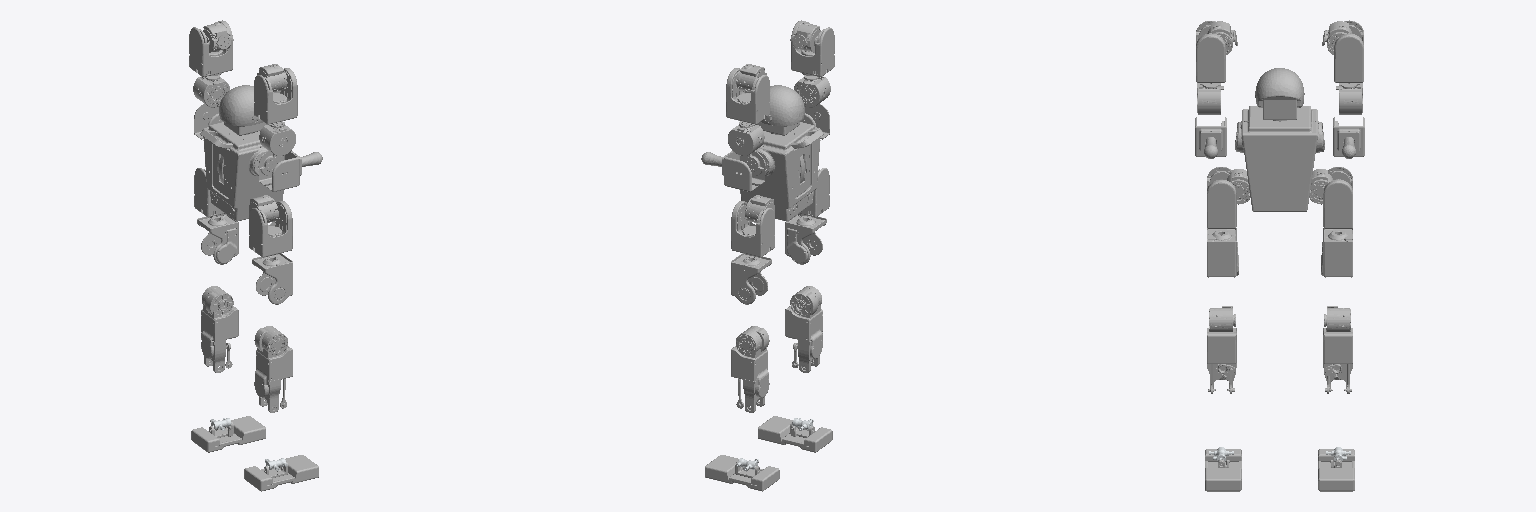
--- Facts derived from the render (not from the file) ---
Views: 3 orthographic renders of the robot side by side, from view 1: azimuth 30°, elevation 25°; view 2: azimuth 150°, elevation 25°; view 3: azimuth 270°, elevation 25°.
Robot: lus2 — 29 links, 28 joints (27 revolute, 1 fixed); root link pelvis; default pose: all joints at 0.
Links seen in each view (by area): view 1: torso_link, right_knee_link, left_knee_link, right_hip_roll_link, right_shoulder_roll_link, right_elbow_link, left_ankle_roll_link, right_hip_yaw_link, right_ankle_roll_link, left_hip_yaw_link, left_shoulder_roll_link, right_shoulder_yaw_link (+4 smaller); view 2: torso_link, left_knee_link, right_knee_link, left_hip_roll_link, left_shoulder_roll_link, left_elbow_link, right_ankle_roll_link, left_hip_yaw_link, left_ankle_roll_link, right_hip_yaw_link, right_shoulder_roll_link, left_shoulder_yaw_link (+4 smaller); view 3: torso_link, left_knee_link, right_knee_link, left_hip_roll_link, right_hip_roll_link, left_shoulder_roll_link, right_shoulder_roll_link, right_hip_yaw_link, left_hip_yaw_link, right_ankle_roll_link, left_ankle_roll_link, right_elbow_link (+3 smaller).
Link boxes in pixels (bbox=[...]): torso_link: bbox=[200, 85, 283, 221]; right_knee_link: bbox=[254, 326, 292, 412]; left_knee_link: bbox=[201, 286, 238, 372]; right_hip_roll_link: bbox=[249, 201, 292, 257]; right_shoulder_roll_link: bbox=[254, 68, 297, 124]; right_elbow_link: bbox=[259, 151, 322, 191]; left_ankle_roll_link: bbox=[191, 416, 265, 452]; right_hip_yaw_link: bbox=[252, 253, 292, 304]; right_ankle_roll_link: bbox=[244, 455, 318, 491]; left_hip_yaw_link: bbox=[197, 215, 238, 264]; left_shoulder_roll_link: bbox=[189, 20, 232, 76]; right_shoulder_yaw_link: bbox=[259, 121, 295, 155]; torso_link: bbox=[740, 85, 823, 220]; left_knee_link: bbox=[731, 326, 769, 412]; right_knee_link: bbox=[785, 286, 822, 372]; left_hip_roll_link: bbox=[731, 201, 774, 257]; left_shoulder_roll_link: bbox=[726, 68, 769, 124]; left_elbow_link: bbox=[701, 151, 764, 191]; right_ankle_roll_link: bbox=[758, 416, 832, 452]; left_hip_yaw_link: bbox=[731, 253, 771, 304]; left_ankle_roll_link: bbox=[705, 455, 779, 491]; right_hip_yaw_link: bbox=[785, 214, 826, 264]; right_shoulder_roll_link: bbox=[791, 20, 834, 76]; left_shoulder_yaw_link: bbox=[728, 121, 764, 155]; torso_link: bbox=[1235, 68, 1324, 211]; left_knee_link: bbox=[1323, 306, 1352, 393]; right_knee_link: bbox=[1207, 306, 1236, 393]; left_hip_roll_link: bbox=[1323, 167, 1352, 228]; right_hip_roll_link: bbox=[1207, 167, 1236, 228]; left_shoulder_roll_link: bbox=[1334, 20, 1363, 82]; right_shoulder_roll_link: bbox=[1196, 21, 1225, 82]; right_hip_yaw_link: bbox=[1207, 228, 1238, 277]; left_hip_yaw_link: bbox=[1321, 228, 1352, 277]; right_ankle_roll_link: bbox=[1205, 449, 1241, 491]; left_ankle_roll_link: bbox=[1318, 449, 1354, 491]; right_elbow_link: bbox=[1195, 117, 1226, 158].
Size in the robot's own frame: 0.2789 by 0.4659 by 1.35 metres.
21 mesh visuals loaded from 31 distinct referenced files (21 binary STL); not drawn: 10 (reference not matched to a file when rendering).

robot.urdf — lus2:
<?xml version="1.0" encoding="utf-8"?>
<!-- This URDF was automatically created by SolidWorks to URDF Exporter! Originally created by Stephen Brawner ([email redacted]) 
     Commit Version: 1.6.0-4-g7f85cfe  Build Version: 1.6.7995.38578
     For more information, please see http://wiki.ros.org/sw_urdf_exporter -->
<robot name="lus2">
  <mujoco>
        <compiler meshdir="../meshes" discardvisual="false" />
  </mujoco>
  
  <!-- <link name="base">
    <inertial>
      <origin xyz="0 0 0" rpy="0 0 0" />
      <mass value="0.0001" />
      <inertia
        ixx="0.0000000"
        ixy="0.0000000"
        ixz="0.0000000"
        iyy="0.0000000"
        iyz="0.0000000"
        izz="0.0000000" />
    </inertial>
    <visual>
      <origin xyz="0 0 0" rpy="0 0 0" />
      <geometry>
        <box size = "0.001 0.001 0.001"/>
      </geometry>
      <material name="a">
        <color rgba="0.752941176470588 0.752941176470588 0.752941176470588 1" />
      </material>
    </visual>
    <collision>
      <origin xyz="0 0 0" rpy="0 0 0" />
      <geometry>
        <box size = "0.001 0.001 0.001"/>
      </geometry>
    </collision>
  </link>

  <joint name="floating_base_joint" type="fixed">
    <origin xyz="0 0 0" rpy="0 0 0" />
    <parent link="base" />
    <child link="pelvis" />
  </joint> -->

  <link name="pelvis">
    <inertial>
      <origin xyz="-3.1659855E-03  0.0000000 -1.0930236E-01" rpy="0 0 0" />
      <mass value="6.7964049" />
      <inertia
        ixx="3.9641975E-02"
        ixy="0.0000000"
        ixz="1.2568204E-03"
        iyy="3.5762219E-02"
        iyz="0.0000000"
        izz="2.2011165E-02" />
    </inertial>
    <visual>
      <origin xyz="0 0 0.1" rpy="0 0 0" />
      <geometry>
        <mesh filename="../meshes/pelvis.STL" />
      </geometry>
      <material name="a">
        <color rgba="0.752941176470588 0.752941176470588 0.752941176470588 1" />
      </material>
    </visual>
    <!-- <collision>
      <origin xyz="0 0 0" rpy="0 0 0" />
      <geometry>
        <mesh filename="../meshes/pelvis.STL" />
      </geometry>
    </collision> -->
    <collision>
      <origin xyz="0 0 0.0" rpy="0 0 0" />
      <geometry>
        <cylinder radius="0.0572" length="0.1883" />
      </geometry>
    </collision>
  </link>

  <link name="left_hip_pitch_link">
    <inertial>
      <origin xyz="-2.0168256E-02  8.2216101E-02  0.0000000" rpy="0 0 0" />
      <mass value="2.4277335" />
      <inertia
        ixx="6.1432167E-03"
        ixy="4.8775061E-04"
        ixz="0.0000000"
        iyy="3.6201357E-03"
        iyz="0.0000000"
        izz="5.1618570E-03" />
    </inertial>
    <visual>
      <origin xyz="0 0 0.0" rpy="0 0 0" />
      <geometry>
        <mesh filename="../meshes/left_hip_pitch_link.STL" />
      </geometry>
      <material name="a">
        <color rgba="0.752941176470588 0.752941176470588 0.752941176470588 1" />
      </material>
    </visual>
    <!-- <collision>
      <origin xyz="0 0 0" rpy="0 0 0" />
      <geometry>
        <mesh filename="../meshes/left_hip_pitch_link.STL" />
      </geometry>
    </collision> -->
    <collision>
      <origin xyz="0 0.01 0" rpy="1.57 0 0" />
      <geometry>
        <cylinder radius="0.045" length="0.0234" />
      </geometry>
    </collision>
  </link>

  <joint name="left_hip_pitch_joint" type="revolute">
    <origin xyz="0 0.068 -0.056" rpy="0 0 0" />
    <parent link="pelvis" />
    <child link="left_hip_pitch_link" />
    <axis xyz="0 1 0" />
    <limit lower="-1.5" upper="1.5" effort="300" velocity="11" />
  </joint>

  <link name="left_hip_roll_link">
    <inertial>
      <origin xyz="-2.3116200E-03 -3.6364046E-04 -8.1422005E-02" rpy="0 0 0" />
      <mass value="3.1551632" />
      <inertia
        ixx="1.2134241E-02"
        ixy="-4.1927788E-05"
        ixz="-1.9137034E-03"
        iyy="1.1479866E-02"
        iyz="-1.2177975E-04"
        izz="7.1752202E-03" />
    </inertial>
    <visual>
      <origin xyz="0 0 0" rpy="0 0 0" />
      <geometry>
        <mesh filename="../meshes/left_hip_roll_link.STL" />
      </geometry>
      <material name="a">
        <color rgba="0.752941176470588 0.752941176470588 0.752941176470588 1" />
      </material>
    </visual>
    <!-- <collision>
      <origin xyz="0 0 0" rpy="0 0 0" />
      <geometry>
        <mesh filename="../meshes/left_hip_roll_link.STL" />
      </geometry>
    </collision> -->
    <collision>
      <origin xyz="-0.01 0 0" rpy="0 1.57 0" />
      <geometry>
        <cylinder radius="0.065" length="0.13" />
      </geometry>
    </collision>
  </link>

  <joint name="left_hip_roll_joint" type="revolute">
    <origin xyz="0 0.092 0" rpy="0 0 0" />
    <parent link="left_hip_pitch_link" />
    <child link="left_hip_roll_link" />
    <axis xyz="1 0 0" />
    <limit lower="-0.25" upper="2.8" effort="300" velocity="11" />
  </joint>

  <link name="left_hip_yaw_link">
    <inertial>
      <origin xyz="6.4280485E-03 -3.5846370E-03 -1.8449587E-01" rpy="0 0 0" />
      <mass value="3.3522325" />
      <inertia
        ixx="3.8105084E-02"
        ixy="-7.7153373E-05"
        ixz="-7.3176284E-04"
        iyy="3.9597910E-02"
        iyz="-9.0739735E-04"
        izz="7.1960830E-03" />
    </inertial>
    <visual>
      <origin xyz="0 0 0" rpy="0 0 0" />
      <geometry>
        <mesh filename="../meshes/left_hip_yaw_link.STL" />
      </geometry>
      <material name="a">
        <color rgba="0.752941176470588 0.752941176470588 0.752941176470588 1" />
      </material>
    </visual>
    <!-- <collision>
      <origin xyz="0 0 0" rpy="0 0 0" />
      <geometry>
        <mesh filename="../meshes/left_hip_yaw_link.STL" />
      </geometry>
    </collision> -->
    <collision>
      <origin xyz="0 0 0" rpy="0 0 0" />
      <geometry>
        <cylinder radius="0.0708" length="0.142" />
      </geometry>
    </collision>
  </link>

  <joint name="left_hip_yaw_joint" type="revolute">
    <origin xyz="0 0 -0.1395" rpy="0 0 0" />
    <parent link="left_hip_roll_link" />
    <child link="left_hip_yaw_link" />
    <axis xyz="0 0 1" />
    <limit lower="-1.2" upper="2.6" effort="300" velocity="11" />
  </joint>

  <link name="left_knee_link">
    <inertial>
      <origin xyz="9.7804057e-03 -1.2159820e-03 -1.1000733e-01" rpy="0 0 0" />
      <mass value="5.3828222" />
      <inertia
        ixx="7.1014736e-02"
        ixy="-6.3321397e-05"
        ixz="9.4868042e-04"
        iyy="7.2059618e-02"
        iyz="1.0601703e-03"
        izz="8.1731788e-03" />
    </inertial>
    <visual>
      <origin xyz="0 0 0" rpy="0 0 0" />
      <geometry>
        <mesh filename="../meshes/left_knee_link.STL" />
      </geometry>
      <material name="a">
        <color rgba="0.752941176470588 0.752941176470588 0.752941176470588 1" />
      </material>
    </visual>
    <!-- <collision>
      <origin xyz="0 0 0" rpy="0 0 0" />
      <geometry>
        <mesh filename="../meshes/left_knee_link.STL" />
      </geometry>
    </collision> -->
    <collision>
      <origin xyz="0 0 -0.13" rpy="0 0 0" />
      <geometry>
        <box size = "0.109 0.095 0.278"/>
      </geometry>
    </collision>
  </link>

  <joint name="left_knee_joint" type="revolute">
    <origin xyz="0 0 -0.26" rpy="0 0 0" />
    <parent link="left_hip_yaw_link" />
    <child link="left_knee_link" />
    <axis xyz="0 1 0" />
    <limit lower="0.0" upper="2.27" effort="300" velocity="11" />
  </joint>

  <link name="left_ankle_pitch_link">
    <inertial>
      <origin xyz="-3.1002626e-04  1.1061714e-05 -4.2515953e-03" rpy="0 0 0" />
      <mass value="1.6375855e-01" />
      <inertia
        ixx="5.5690573e-05"
        ixy="-2.3322493e-10"
        ixz="-3.1117387e-07"
        iyy="2.3118959e-05"
        iyz="4.0748259e-10"
        izz="5.5144716e-05" />
    </inertial>
    <visual>
      <origin xyz="0 0 0" rpy="0 0 0" />
      <geometry>
        <mesh filename="../meshes/left_ankle_pitch_link.STL" />
      </geometry>
      <material name="a">
        <color rgba="0.898039215686275 0.917647058823529 0.929411764705882 1" />
      </material>
    </visual>
    <!-- <collision>
      <origin xyz="0 0 0" rpy="0 0 0" />
      <geometry>
        <mesh filename="../meshes/left_ankle_pitch_link.STL" />
      </geometry>
    </collision> -->
    <collision>
      <origin xyz="0 0 0" rpy="1.57 0 0" />
      <geometry>
        <cylinder radius="0.009" length="0.032" />
      </geometry>
    </collision>
  </link>

  <joint name="left_ankle_pitch_joint" type="revolute">
    <origin xyz="0 0 -0.4" rpy="0 0 0" />
    <parent link="left_knee_link" />
    <child link="left_ankle_pitch_link" />
    <axis xyz="0 1 0" />
    <limit lower="-1.0" upper="0.43" effort="100" velocity="14" />
  </joint>

  <link name="left_ankle_roll_link">
    <inertial>
      <origin xyz="1.7804206e-02  0.0000000e+00 -2.2944985e-02" rpy="0 0 0" />
      <mass value="3.2840177e-01" />
      <inertia
        ixx="2.3276192e-04"
        ixy="0.0000000"
        ixz="9.9000753e-05"
        iyy="1.3849144e-03"
        iyz="0.0000000"
        izz="1.4703900e-03" />
    </inertial>
    <visual>
      <origin xyz="0 0 0" rpy="0 0 0" />
      <geometry>
        <mesh filename="../meshes/left_ankle_roll_link.STL" />
      </geometry>
      <material name="a">
        <color rgba="0.752941176470588 0.752941176470588 0.752941176470588 1" />
      </material>
    </visual>
    <!-- <collision>
      <origin xyz="0 0 0" rpy="0 0 0" />
      <geometry>
        <mesh filename="../meshes/left_ankle_roll_link.STL" />
      </geometry>
    </collision> -->


    <collision>
      <origin xyz="0.025 0 -0.03385" rpy="0 0 0" />
      <geometry>
        <box size = "0.235 0.073 0.0143"/>
      </geometry>
    </collision>

   <collision>
      <origin xyz="-0.085 0.035 -0.04" rpy="0 0 0"/>
      <geometry>
        <sphere radius="0.005"/>
      </geometry>
    </collision>
    <collision>
      <origin xyz="-0.085 -0.035 -0.04" rpy="0 0 0"/>
      <geometry>
        <sphere radius="0.005"/>
      </geometry>
    </collision>
    <collision>
      <origin xyz="0.135 0.035 -0.04" rpy="0 0 0"/>
      <geometry>
        <sphere radius="0.005"/>
      </geometry>
    </collision>
    <collision>
      <origin xyz="0.135 -0.035 -0.04" rpy="0 0 0"/>
      <geometry>
        <sphere radius="0.005"/>
      </geometry>
    </collision>
    <collision>
      <origin xyz="0.05 -0.045 -0.04" rpy="0 0 0"/>
      <geometry>
        <sphere radius="0.005"/>
      </geometry>
    </collision>
    <collision>
      <origin xyz="0.05 0.045 -0.04" rpy="0 0 0"/>
      <geometry>
        <sphere radius="0.005"/>
      </geometry>
    </collision>
    <collision>
      <origin xyz="0.145 -0.0 -0.04" rpy="0 0 0"/>
      <geometry>
        <sphere radius="0.005"/>
      </geometry>
    </collision>
    <collision>
      <origin xyz="-0.09 -0.0 -0.04" rpy="0 0 0"/>
      <geometry>
        <sphere radius="0.005"/>
      </geometry>
    </collision>
 

  </link>

  <joint name="left_ankle_roll_joint" type="revolute">
    <origin xyz="0 0 -0.01" rpy="0 0 0" />
    <parent link="left_ankle_pitch_link" />
    <child link="left_ankle_roll_link" />
    <axis xyz="1 0 0" />
    <limit lower="-0.43" upper="0.43" effort="100" velocity="14" />
  </joint>

  <link name="right_hip_pitch_link">
    <inertial>
      <origin xyz="-2.0168256E-02 -8.2216101E-02  0.0000000" rpy="0 0 0" />
      <mass value="2.4277335" />
      <inertia
        ixx="6.1432167E-03"
        ixy="-4.8775061E-04"
        ixz="0.0000000"
        iyy="3.6201357E-03"
        iyz="0.0000000"
        izz="5.1618570E-03" />
    </inertial>
    <visual>
      <origin xyz="0 0 0" rpy="0 0 0" />
      <geometry>
        <mesh filename="../meshes/right_hip_pitch_link.STL" />
      </geometry>
      <material name="a">
        <color rgba="0.752941176470588 0.752941176470588 0.752941176470588 1" />
      </material>
    </visual>
    <!-- <collision>
      <origin xyz="0 0 0"  rpy="0 0 0" />
      <geometry>
        <mesh filename="../meshes/right_hip_pitch_link.STL" />
      </geometry>
    </collision> -->
    <collision>
      <origin xyz="0 -0.01 0" rpy="1.57 0 0" />
      <geometry>
        <cylinder radius="0.045" length="0.0234" />
      </geometry>
    </collision>
  </link>

  <joint name="right_hip_pitch_joint" type="revolute">
    <origin xyz="0 -0.068 -0.056" rpy="0 0 0" />
    <parent link="pelvis" />
    <child link="right_hip_pitch_link" />
    <axis xyz="0 1 0" />
    <limit lower="-1.5" upper="1.5" effort="300" velocity="11" />
  </joint>

  <link name="right_hip_roll_link">
    <inertial>
      <origin xyz="-2.3116409E-03  3.6367554E-04 -8.1422055E-02" rpy="0 0 0" />
      <mass value="3.1551628" />
      <inertia
        ixx="1.2134227E-02"
        ixy="4.1929406E-05"
        ixz="-1.9137018E-03"
        iyy="1.1479853E-02"
        iyz="1.2177538E-04"
        izz="7.1752213E-03" />
    </inertial>
    <visual>
      <origin xyz="0 0 0" rpy="0 0 0" />
      <geometry>
        <mesh filename="../meshes/right_hip_roll_link.STL" />
      </geometry>
      <material name="a">
        <color rgba="0.752941176470588 0.752941176470588 0.752941176470588 1" />
      </material>
    </visual>
    <!-- <collision>
      <origin xyz="0 0 0" rpy="0 0 0" />
      <geometry>
        <mesh filename="../meshes/right_hip_roll_link.STL" />
      </geometry>
    </collision> -->
    <collision>
      <origin xyz="-0.01 0 0" rpy="0 1.57 0" />
      <geometry>
        <cylinder radius="0.065" length="0.13" />
      </geometry>
    </collision>
  </link>

  <joint name="right_hip_roll_joint" type="revolute">
    <origin  xyz="0 -0.092 0" rpy="0 0 0" />
    <parent link="right_hip_pitch_link" />
    <child link="right_hip_roll_link" />
    <axis xyz="1 0 0" />
    <limit lower="-2.8" upper="0.25" effort="300" velocity="11" />
  </joint>

  <link name="right_hip_yaw_link">
    <inertial>
      <origin xyz="6.4280485E-03  3.5846369E-03 -1.8449587E-01" rpy="0 0 0" />
      <mass value="3.3522326" />
      <inertia
        ixx="3.8105084E-02"
        ixy="7.7153371E-05"
        ixz="-7.3176284E-04"
        iyy="3.9597910E-02"
        iyz="9.0739735E-04"
        izz="7.1960830E-03" />
    </inertial>
    <visual>
      <origin xyz="0 0 0" rpy="0 0 0" />
      <geometry>
        <mesh filename="../meshes/right_hip_yaw_link.STL" />
      </geometry>
      <material name="a">
        <color rgba="0.752941176470588 0.752941176470588 0.752941176470588 1" />
      </material>
    </visual>
    <!-- <collision>
      <origin xyz="0 0 0" rpy="0 0 0" />
      <geometry>
        <mesh filename="../meshes/right_hip_yaw_link.STL" />
      </geometry>
    </collision> -->
    <collision>
      <origin xyz="0 0 0" rpy="0 0 0" />
      <geometry>
        <cylinder radius="0.0708" length="0.142" />
      </geometry>
    </collision>
  </link>

  <joint name="right_hip_yaw_joint" type="revolute">
    <origin xyz="0 0 -0.1395" rpy="0 0 0" />
    <parent link="right_hip_roll_link" />
    <child link="right_hip_yaw_link" />
    <axis xyz="0 0 1" />
    <limit lower="-2.6" upper="1.2" effort="300" velocity="11" />
  </joint>

  <link name="right_knee_link">
    <inertial>
      <origin xyz="9.7804052e-03  1.2159799e-03 -1.1000734e-01" rpy="0 0 0" />
      <mass value="5.3828227" />
      <inertia
        ixx="7.1014747e-02"
        ixy="6.3321335e-05"
        ixz="9.4868006e-04"
        iyy="7.2059629e-02"
        iyz="-1.0601720e-03"
        izz="8.1731791e-03" />
    </inertial>
    <visual>
      <origin xyz="0 0 0" rpy="0 0 0" />
      <geometry>
        <mesh filename="../meshes/right_knee_link.STL" />
      </geometry>
      <material name="a">
        <color rgba="0.752941176470588 0.752941176470588 0.752941176470588 1" />
      </material>
    </visual>
    <!-- <collision>
      <origin xyz="0 0 0" rpy="0 0 0" />
      <geometry>
        <mesh filename="../meshes/right_knee_link.STL" />
      </geometry>
    </collision> -->
    <collision>
      <origin xyz="0 0 -0.13" rpy="0 0 0" />
      <geometry>
        <box size = "0.109 0.095 0.278"/>
      </geometry>
    </collision>
  </link>

  <joint name="right_knee_joint" type="revolute">
    <origin xyz="0 0 -0.26" rpy="0 0 0" />
    <parent link="right_hip_yaw_link" />
    <child link="right_knee_link" />
    <axis xyz="0 1 0" />
    <limit lower="0.0" upper="2.27" effort="300" velocity="11" />
  </joint>

  <link name="right_ankle_pitch_link">
    <inertial>
      <origin xyz="-3.1002626e-04  1.1061714e-05 -4.2515953e-03" rpy="0 0 0" />
      <mass value="1.6375855e-01" />
      <inertia
        ixx="5.5690573e-05"
        ixy="-2.3322493e-10"
        ixz="-3.1117387e-07"
        iyy="2.3118959e-05"
        iyz="4.0748259e-10"
        izz="5.5144716e-05" />
    </inertial>
    <visual>
      <origin xyz="0 0 0" rpy="0 0 0" />
      <geometry>
        <mesh filename="../meshes/right_ankle_pitch_link.STL" />
      </geometry>
      <material name="a">
        <color rgba="0.898039215686275 0.917647058823529 0.929411764705882 1" />
      </material>
    </visual>
    <!-- <collision>
      <origin xyz="0 0 0" rpy="0 0 0" />
      <geometry>
        <mesh filename="../meshes/right_ankle_pitch_link.STL" />
      </geometry>
    </collision> -->
    <collision>
      <origin xyz="0 0 0" rpy="1.57 0 0" />
      <geometry>
        <cylinder radius="0.009" length="0.032" />
      </geometry>
    </collision>
  </link>

  <joint name="right_ankle_pitch_joint" type="revolute">
    <origin xyz="0 0 -0.4" rpy="0 0 0" />
    <parent link="right_knee_link" />
    <child link="right_ankle_pitch_link" />
    <axis xyz="0 1 0" />
    <limit lower="-1.0" upper="0.43" effort="100" velocity="14" />
  </joint>

  <link name="right_ankle_roll_link">
    <inertial>
      <origin xyz="1.7804206e-02  0.0000000e+00 -2.2944985e-02" rpy="0 0 0" />
      <mass value="3.2840177e-01" />
      <inertia
        ixx="2.3276192e-04"
        ixy="0.0000000"
        ixz="9.9000753e-05"
        iyy="1.3849144e-03"
        iyz="0.0000000"
        izz="1.4703900e-03" />
    </inertial>
    <visual>
      <origin xyz="0 0 0" rpy="0 0 0" />
      <geometry>
        <mesh filename="../meshes/right_ankle_roll_link.STL" />
      </geometry>
      <material name="a">
        <color rgba="0.752941176470588 0.752941176470588 0.752941176470588 1" />
      </material>
    </visual>
    <!-- <collision>
      <origin xyz="0 0 0" rpy="0 0 0" />
      <geometry>
        <mesh filename="../meshes/right_ankle_roll_link.STL" />
      </geometry>
    </collision> -->
    
    <collision>
      <origin xyz="0.025 0 -0.03385" rpy="0 0 0" />
      <geometry>
        <box size = "0.235 0.073 0.0143"/>
      </geometry>
    </collision>
    


   <collision>
      <origin xyz="-0.085 0.035 -0.04" rpy="0 0 0"/>
      <geometry>
        <sphere radius="0.005"/>
      </geometry>
    </collision>
    <collision>
      <origin xyz="-0.085 -0.035 -0.04" rpy="0 0 0"/>
      <geometry>
        <sphere radius="0.005"/>
      </geometry>
    </collision>
    <collision>
      <origin xyz="0.135 0.035 -0.04" rpy="0 0 0"/>
      <geometry>
        <sphere radius="0.005"/>
      </geometry>
    </collision>
    <collision>
      <origin xyz="0.135 -0.035 -0.04" rpy="0 0 0"/>
      <geometry>
        <sphere radius="0.005"/>
      </geometry>
    </collision>
    <collision>
      <origin xyz="0.05 -0.045 -0.04" rpy="0 0 0"/>
      <geometry>
        <sphere radius="0.005"/>
      </geometry>
    </collision>
    <collision>
      <origin xyz="0.05 0.045 -0.04" rpy="0 0 0"/>
      <geometry>
        <sphere radius="0.005"/>
      </geometry>
    </collision>
    <collision>
      <origin xyz="0.145 -0.0 -0.04" rpy="0 0 0"/>
      <geometry>
        <sphere radius="0.005"/>
      </geometry>
    </collision>
    <collision>
      <origin xyz="-0.09 -0.0 -0.04" rpy="0 0 0"/>
      <geometry>
        <sphere radius="0.005"/>
      </geometry>
    </collision>

  </link>

  <joint name="right_ankle_roll_joint" type="revolute">
    <origin xyz="0 0 -0.01" rpy="0 0 0" />
    <parent link="right_ankle_pitch_link" />
    <child link="right_ankle_roll_link" />
    <axis xyz="1 0 0" />
    <limit lower="-0.43" upper="0.43" effort="100" velocity="14" />
  </joint>

  <link name="torso_link">
    <inertial>
      <origin xyz="-2.3606484E-03  2.8289136E-04  2.3074545E-01" rpy="0 0 0" />
      <mass value="1.0563174E+01" />
      <inertia
        ixx="1.3744844E-01"
        ixy="1.3568744E-04"
        ixz="5.7196351E-03"
        iyy="1.1331419E-01"
        iyz="-4.6372000E-04"
        izz="6.5891007E-02" />
    </inertial>
    <visual>
      <origin xyz="0 0 0" rpy="0 0 0" />
      <geometry>
        <mesh filename="../meshes/torso_link.STL" />
      </geometry>
      <material name="a">
        <color rgba="0.752941176470588 0.752941176470588 0.752941176470588 1" />
      </material>
    </visual>
    <!-- <collision>
      <origin xyz="0 0 0" rpy="0 0 0" />
      <geometry>
        <mesh filename="../meshes/torso_link.STL" />
      </geometry>
    </collision> -->
    <collision>
      <origin xyz="0.0065 0.0 0.21" rpy="0 0 0" />
      <geometry>
        <box size = "0.205 0.178 0.246"/>
      </geometry>
    </collision>
  </link>

  <joint name="torso_joint" type="revolute">
    <origin xyz="0 0 0.1" rpy="0 0 0" />
    <parent link="pelvis" />
    <child link="torso_link" />
    <axis xyz="0 0 1" />
    <limit lower="-3" upper="3" effort="300" velocity="11" />
  </joint>

  <link name="head_link">
    <inertial>
      <origin xyz="0.00822737744778477 -0.000198850473705812 0.107120349130616" rpy="0 0 0" />
      <mass value="1.02775179782002" />
      <inertia
        ixx="0.00169703133506373"
        ixy="2.89967965428031E-07"
        ixz="0.000184215223504519"
        iyy="0.00191732132579063"
        iyz="1.69965812692335E-07"
        izz="0.00219567889747987" />
    </inertial>
    <visual>
      <origin xyz="0 0 0" rpy="0 0 0" />
      <geometry>
        <mesh filename="../meshes/head_link.STL" />
      </geometry>
      <material name="a">
        <color rgba="0.752941176470588 0.752941176470588 0.752941176470588 1" />
      </material>
    </visual>
    <!-- <collision>
      <origin xyz="0 0 0" rpy="0 0 0" />
      <geometry>
        <mesh filename="../meshes/head_link.STL" />
      </geometry>
    </collision> -->
    <collision>
      <origin xyz="0 0 0.11" rpy="0 0 0" />
      <geometry>
        <sphere radius="0.08" />
      </geometry>
    </collision>
  </link>

  <joint name="head_joint" type="fixed">
    <origin xyz="0 0 0.3875" rpy="0 0 0" />
    <parent link="torso_link" />
    <child link="head_link" />
    <axis xyz="0 0 1" />
    <limit lower="-1.3" upper="1.3" effort="17" velocity="87" />
  </joint>

  <link name="left_shoulder_pitch_link">
    <inertial>
      <origin xyz="-1.9833474e-02 4.4431912e-02 -5.5587489e-06" rpy="0 0 0" />
      <mass value="3.0353084e-01" />
      <inertia
        ixx="3.9643671e-04"
        ixy="9.9021623e-05"
        ixz="2.2578362e-09"
        iyy="1.6487917e-04"
        iyz="-2.0641827e-08"
        izz="3.8208098e-04" />
    </inertial>
    <visual>
      <origin xyz="0 0 0" rpy="0 0 0" />
      <geometry>
        <mesh filename="../meshes/left_shoulder_pitch_link.STL" />
      </geometry>
      <material name="a">
        <color rgba="0.752941176470588 0.752941176470588 0.752941176470588 1" />
      </material>
    </visual>
    <!-- <collision>
      <origin xyz="0 0 0" rpy="0 0 0" />
      <geometry>
        <mesh filename="../meshes/left_shoulder_pitch_link.STL" />
      </geometry>
    </collision> -->
    <collision>
      <origin xyz="0 0.01 0" rpy="1.57 0 0" />
      <geometry>
        <cylinder radius="0.0244" length="0.018" />
      </geometry>
    </collision>
  </link>

  <joint name="left_shoulder_pitch_joint" type="revolute">
    <origin xyz="0 0.12095 0.29712" rpy="-0.17453 0 0" />
    <parent link="torso_link" />
    <child link="left_shoulder_pitch_link" />
    <axis xyz="0 1 0" />
    <limit lower="-3" upper="3" effort="100" velocity="14" />
  </joint>

  <link name="left_shoulder_roll_link">
    <inertial>
      <origin xyz="4.6571984e-03 -4.1483153e-05 -5.5419414e-02" rpy="0 0 0" />
      <mass value="1.6480208e+00" />
      <inertia
        ixx="5.2969146e-03"
        ixy="2.4490248e-06"
        ixz="-4.4137516e-04"
        iyy="5.2914384e-03"
        iyz="3.7517169e-06"
        izz="1.2519989e-03" />
    </inertial>
    <visual>
      <origin xyz="0 0 0" rpy="0 0 0" />
      <geometry>
        <mesh filename="../meshes/left_shoulder_roll_link.STL" />
      </geometry>
      <material name="a">
        <color rgba="0.752941176470588 0.752941176470588 0.752941176470588 1" />
      </material>
    </visual>
    <!-- <collision>
      <origin xyz="0 0 0" rpy="0 0 0" />
      <geometry>
        <mesh filename="../meshes/left_shoulder_roll_link.STL" />
      </geometry>
    </collision> -->
    <collision>
      <origin xyz="0 0 0" rpy="0 1.57 0" />
      <geometry>
        <cylinder radius="0.0447" length="0.1" />
      </geometry>
    </collision>
  </link>

  <joint name="left_shoulder_roll_joint" type="revolute">
    <origin xyz="0 0.0695 0" rpy="0.17453 0 0" />
    <parent link="left_shoulder_pitch_link" />
    <child link="left_shoulder_roll_link" />
    <axis xyz="1 0 0" />
    <limit lower="-0.12" upper="2.3" effort="100" velocity="14" />
  </joint>

  <link name="left_shoulder_yaw_link">
    <inertial>
      <origin xyz="-8.6588242e-04 2.7056403e-03 -1.1851791e-01" rpy="0 0 0"/>
      <mass value="1.0475838e+00"/>
      <inertia
        ixx="2.6989882e-03" 
        ixy="-2.9561127e-06" 
        ixz="4.3512567e-05" 
        iyy="2.7131219e-03" 
        iyz="6.1012281e-05" 
        izz="7.9314932e-04"/>
    </inertial>
    <visual>
      <origin xyz="0 0 0" rpy="0 0 0" />
      <geometry>
        <mesh filename="../meshes/left_shoulder_yaw_link.STL" />
      </geometry>
      <material name="a">
        <color rgba="0.752941176470588 0.752941176470588 0.752941176470588 1" />
      </material>
    </visual>
    <!-- <collision>
      <origin xyz="0 0 0" rpy="0 0 0" />
      <geometry>
        <mesh filename="../meshes/left_shoulder_yaw_link.STL" />
      </geometry>
    </collision> -->
    <collision>
      <origin xyz="0 0 0" rpy="0 0 0" />
      <geometry>
        <cylinder radius="0.03968" length="0.14" />
      </geometry>
    </collision>
  </link>

  <joint name="left_shoulder_yaw_joint" type="revolute">
    <origin xyz="0 0 -0.13" rpy="0 0 0" />
    <parent link="left_shoulder_roll_link" />
    <child link="left_shoulder_yaw_link" />
    <axis xyz="0 0 1" />
    <limit lower="-1.9" upper="1.9" effort="100" velocity="14" />
  </joint>

  <link name="left_elbow_link">
    <inertial>
      <origin xyz="-4.1060603e-03 -2.2547010e-03 -5.4775265e-02" rpy="0 0 0"/>
      <mass value="8.1901234e-01"/>
      <inertia
        ixx="1.5966173e-03" 
        ixy="7.9254545e-06" 
        ixz="1.3979156e-04" 
        iyy="1.5435859e-03" 
        iyz="9.5459458e-05" 
        izz="8.6127913e-04"/>
    </inertial>
    <visual>
      <origin xyz="0 0 0" rpy="0 0 0" />
      <geometry>
        <mesh filename="../meshes/left_elbow_link.STL" />
      </geometry>
      <material name="a">
        <color rgba="0.752941176470588 0.752941176470588 0.752941176470588 1" />
      </material>
    </visual>
    <!-- <collision>
      <origin xyz="0 0 0" rpy="0 0 0" />
      <geometry>
        <mesh filename="../meshes/left_elbow_link.STL" />
      </geometry>
    </collision> -->
    <collision>
      <origin xyz="0 0 0" rpy="1.57 0 0" />
      <geometry>
        <cylinder radius="0.043" length="0.079" />
      </geometry>
    </collision>
  </link>

  <joint name="left_elbow_joint" type="revolute">
    <origin xyz="0 0 -0.14" rpy="0 -1.57 0" />
    <parent link="left_shoulder_yaw_link" />
    <child link="left_elbow_link" />
    <axis xyz="0 1 0" />
    <limit lower="-0.83" upper="1.57" effort="100" velocity="14" />
  </joint>

  <link name="left_wrist_yaw_link">
    <inertial>
      <origin xyz="0.0000000e+00 -1.0598513e-03 -5.6717954e-02" rpy="0 0 0"/>
      <mass value="6.1426733e-01"/>
      <inertia
        ixx="4.7121608e-04" 
        ixy="0.0000000e+00" 
        ixz="0.0000000e+00" 
        iyy="4.7891195e-04" 
        iyz="-5.3981771e-06" 
        izz="3.4979129e-04"/>
    </inertial>
    <visual>
      <origin xyz="0 0 0" rpy="0 0 0" />
      <geometry>
        <mesh filename="../meshes/left_wrist_yaw_link.STL" />
      </geometry>
      <material name="a">
        <color rgba="0.752941176470588 0.752941176470588 0.752941176470588 1" />
      </material>
    </visual>
    <!-- <collision>
      <origin xyz="0 0 0" rpy="0 0 0" />
      <geometry>
        <mesh filename="../meshes/left_wrist_yaw_link.STL" />
      </geometry>
    </collision> -->
    <collision>
      <origin xyz="0 0 0.01" rpy="0 0 0" />
      <geometry>
        <cylinder radius="0.035" length="0.07" />
      </geometry>
    </collision>
  </link>

  <joint name="left_wrist_yaw_joint" type="revolute">
    <origin xyz="0 0 -0.0955" rpy="0 0 0" />
    <parent link="left_elbow_link" />
    <child link="left_wrist_yaw_link" />
    <axis xyz="0 0 1" />
    <limit lower="-2.3" upper="2.3" effort="17" velocity="87" />
  </joint>

  <link name="left_wrist_pitch_link">
    <inertial>
      <origin xyz="1.1625996e-03 -2.8266432e-04 -5.7702211e-02" rpy="0 0 0"/>
      <mass value="7.3227634e-01"/>
      <inertia
        ixx="9.4034722e-04" 
        ixy="-2.4040905e-07" 
        ixz="7.9367732e-06" 
        iyy="7.0409858e-04" 
        iyz="9.9802725e-06" 
        izz="5.4229049e-04"/>
    </inertial>
    <visual>
      <origin xyz="0 0 0" rpy="0 0 0" />
      <geometry>
        <mesh filename="../meshes/left_wrist_pitch_link.STL" />
      </geometry>
      <material name="a">
        <color rgba="0.752941176470588 0.752941176470588 0.752941176470588 1" />
      </material>
    </visual>
    <!-- <collision>
      <origin xyz="0 0 0" rpy="0 0 0" />
      <geometry>
        <mesh filename="../meshes/left_wrist_pitch_link.STL" />
      </geometry>
    </collision> -->
    <collision>
      <origin xyz="0 0 0.0" rpy="1.57 0 0" />
      <geometry>
        <cylinder radius="0.032" length="0.064" />
      </geometry>
    </collision>
  </link>

  <joint name="left_wrist_pitch_joint" type="revolute">
    <origin xyz="0 0 -0.0645" rpy="0 0 0" />
    <parent link="left_wrist_yaw_link" />
    <child link="left_wrist_pitch_link" />
    <axis xyz="0 1 0" />
    <limit lower="-1.2" upper="1.2" effort="17" velocity="87" />
  </joint>

  <link name="left_wrist_roll_link">
    <inertial>
      <origin xyz="0.01916043 -0.00000117 -0.02394803" rpy="0 0 0" />
      <mass value="0.0380932" />
      <inertia
        ixx="0.00001604"
        ixy="0.00000000"
        ixz="0.00000518"
        iyy="0.00002008"
        iyz="0.00000000"
        izz="0.00000997" />
    </inertial>
    <visual>
      <origin xyz="0 0 0" rpy="0 0 0" />
      <geometry>
        <mesh filename="../meshes/left_wrist_roll_link.STL" />
      </geometry>
      <material name="a">
        <color rgba="0.752941176470588 0.752941176470588 0.752941176470588 1" />
      </material>
    </visual>


    <visual>
      <origin xyz="0 0 0" rpy="0 1.5708 0"/> <!-- 绕Y轴旋转90度 -->
      <geometry>
        <mesh filename="../meshes/left_hand_link.STL" scale="1 1 1"/>
      </geometry>
      <material name="hand_material">
        <color rgba="0.752941176470588 0.752941176470588 0.752941176470588 1"/>
      </material>
    </visual>
    <collision>
      <origin xyz="0 0 0" rpy="0 1.5708 0"/>
      <geometry>
        <mesh filename="../meshes/left_hand_link.STL" scale="1 1 1"/>
      </geometry>
    </collision>


    <!-- <collision>
      <origin xyz="0 0 0" rpy="0 0 0" />
      <geometry>
        <mesh filename="../meshes/left_wrist_roll_link.STL" />
      </geometry>
    </collision> -->
    <collision>
      <origin xyz="0 0 0" rpy="0 1.57 0" />
      <geometry>
        <cylinder radius="0.035" length="0.054" />
      </geometry>
    </collision>
  </link>

  <joint name="left_wrist_roll_joint" type="revolute">
    <origin xyz="0 0 -0.068" rpy="0 0 0" />
    <parent link="left_wrist_pitch_link" />
    <child link="left_wrist_roll_link" />
    <axis xyz="1 0 0" />
    <limit lower="-1.2" upper="1.2" effort="17" velocity="87" />
  </joint>

  <link name="right_shoulder_pitch_link">
    <inertial>
      <origin xyz="-1.9833474e-02 -4.4431912e-02 5.5587489e-06" rpy="0 0 0" />
      <mass value="3.0353084e-01" />
      <inertia
        ixx="3.9643671e-04"
        ixy="-9.9021623e-05"
        ixz="-2.2578362e-09"
        iyy="1.6487917e-04"
        iyz="-2.0641827e-08"
        izz="3.8208098e-04" />
    </inertial>
    <visual>
      <origin xyz="0 0 0" rpy="0 0 0" />
      <geometry>
        <mesh filename="../meshes/right_shoulder_pitch_link.STL" />
      </geometry>
      <material name="a">
        <color rgba="0.752941176470588 0.752941176470588 0.752941176470588 1" />
      </material>
    </visual>
    <!-- <collision>
      <origin xyz="0 0 0" rpy="0 0 0" />
      <geometry>
        <mesh filename="../meshes/right_shoulder_pitch_link.STL" />
      </geometry>
    </collision> -->
    <collision>
      <origin xyz="0 -0.01 0" rpy="1.57 0 0" />
      <geometry>
        <cylinder radius="0.0244" length="0.018" />
      </geometry>
    </collision>
  </link>

  <joint name="right_shoulder_pitch_joint" type="revolute">
    <origin xyz="0 -0.12095 0.29712" rpy="0.17453 0 0" />
    <parent link="torso_link" />
    <child link="right_shoulder_pitch_link" />
    <axis xyz="0 1 0" />
    <limit lower="-3" upper="3" effort="100" velocity="14" />
  </joint>

  <link name="right_shoulder_roll_link">
    <inertial>
      <origin xyz="4.6571984e-03 -4.1483153e-05 -5.5419414e-02" rpy="0 0 0" />
      <mass value="1.6480208e+00" />
      <inertia
        ixx="5.2969146e-03"
        ixy="2.4490248e-06"
        ixz="-4.4137516e-04"
        iyy="5.2914384e-03"
        iyz="3.7517169e-06"
        izz="1.2519989e-03" />
    </inertial>
    <visual>
      <origin xyz="0 0 0" rpy="0 0 0" />
      <geometry>
        <mesh filename="../meshes/right_shoulder_roll_link.STL" />
      </geometry>
      <material name="a">
        <color rgba="0.752941176470588 0.752941176470588 0.752941176470588 1" />
      </material>
    </visual>
    <!-- <collision>
      <origin xyz="0 0 0" rpy="0 0 0" />
      <geometry>
        <mesh filename="../meshes/right_shoulder_roll_link.STL" />
      </geometry>
    </collision> -->
    <collision>
      <origin xyz="0 0 0" rpy="0 1.57 0" />
      <geometry>
        <cylinder radius="0.0447" length="0.1" />
      </geometry>
    </collision>
  </link>

  <joint name="right_shoulder_roll_joint" type="revolute">
    <origin  xyz="0 -0.0695 0" rpy="-0.17453 0 0" />
    <parent link="right_shoulder_pitch_link" />
    <child link="right_shoulder_roll_link" />
    <axis xyz="1 0 0" />
    <limit lower="-2.3" upper="0.12" effort="100" velocity="14" />
  </joint>

  <link name="right_shoulder_yaw_link">
    <inertial>
      <origin xyz="-8.6588430e-04 -2.7056640e-03 -1.1851792e-01" rpy="0 0 0"/>
      <mass value="1.0475841e+00"/>
      <inertia
        ixx="2.6989886e-03" 
        ixy="2.9564818e-06" 
        ixz="4.3512321e-05" 
        iyy="2.7131223e-03" 
        iyz="-6.1008586e-05" 
        izz="7.9314938e-04"/>
    </inertial>
    <visual>
      <origin xyz="0 0 0" rpy="0 0 0" />
      <geometry>
        <mesh filename="../meshes/right_shoulder_yaw_link.STL" />
      </geometry>
      <material name="a">
        <color rgba="0.752941176470588 0.752941176470588 0.752941176470588 1" />
      </material>
    </visual>
    <!-- <collision>
      <origin xyz="0 0 0" rpy="0 0 0" />
      <geometry>
        <mesh filename="../meshes/right_shoulder_yaw_link.STL" />
      </geometry>
    </collision> -->
    <collision>
      <origin xyz="0 0 0" rpy="0 0 0" />
      <geometry>
        <cylinder radius="0.03968" length="0.14" />
      </geometry>
    </collision>
  </link>

  <joint name="right_shoulder_yaw_joint" type="revolute">
    <origin  xyz="0 0 -0.13" rpy="0 0 0" />
    <parent link="right_shoulder_roll_link" />
    <child link="right_shoulder_yaw_link" />
    <axis xyz="0 0 1" />
    <limit lower="-1.9" upper="1.9" effort="100" velocity="14" />
  </joint>

  <link name="right_elbow_link">
    <inertial>
      <origin xyz="-4.1060960e-03 2.2047439e-03 -5.4775204e-02" rpy="0 0 0"/>
      <mass value="8.1901252e-01"/>
      <inertia
        ixx="1.5966211e-03" 
        ixy="-7.9253657e-06" 
        ixz="1.3979204e-04" 
        iyy="1.5435872e-03" 
        iyz="-9.5461542e-05" 
        izz="8.6127887e-04"/>
    </inertial>
    <visual>
      <origin xyz="0 0 0" rpy="0 0 0" />
      <geometry>
        <mesh filename="../meshes/right_elbow_link.STL" />
      </geometry>
      <material name="a">
        <color rgba="0.752941176470588 0.752941176470588 0.752941176470588 1" />
      </material>
    </visual>
    <!-- <collision>
      <origin xyz="0 0 0" rpy="0 0 0" />
      <geometry>
        <mesh filename="../meshes/right_elbow_link.STL" />
      </geometry>
    </collision> -->
    <collision>
      <origin xyz="0 0 0" rpy="1.57 0 0" />
      <geometry>
        <cylinder radius="0.043" length="0.079" />
      </geometry>
    </collision>
  </link>

  <joint name="right_elbow_joint" type="revolute">
    <origin xyz="0 0 -0.14" rpy="0 -1.57 0" />
    <parent link="right_shoulder_yaw_link" />
    <child link="right_elbow_link" />
    <axis xyz="0 1 0" />
    <limit lower="-0.83" upper="1.57" effort="100" velocity="14" />
  </joint>

  <link name="right_wrist_yaw_link">
    <inertial>
      <origin xyz="0.0000000e+00 1.0598507e-03 -5.6717954e-02" rpy="0 0 0"/>
      <mass value="6.1426734e-01"/>
      <inertia
        ixx="4.7121609e-04" 
        ixy="0.0000000e+00" 
        ixz="0.0000000e+00" 
        iyy="4.7891196e-04" 
        iyz="5.3981743e-06" 
        izz="3.4979130e-04"/>
    </inertial>
    <visual>
      <origin xyz="0 0 0" rpy="0 0 0" />
      <geometry>
        <mesh filename="../meshes/right_wrist_yaw_link.STL" />
      </geometry>
      <material name="a">
        <color rgba="0.752941176470588 0.752941176470588 0.752941176470588 1" />
      </material>
    </visual>
    <!-- <collision>
      <origin xyz="0 0 0" rpy="0 0 0" />
      <geometry>
        <mesh filename="../meshes/right_wrist_yaw_link.STL" />
      </geometry>
    </collision> -->
    <collision>
      <origin xyz="0 0 0.01" rpy="0 0 0" />
      <geometry>
        <cylinder radius="0.035" length="0.07" />
      </geometry>
    </collision>
  </link>

  <joint name="right_wrist_yaw_joint" type="revolute">
    <origin xyz="0 0 -0.0955" rpy="0 0 0" />
    <parent link="right_elbow_link" />
    <child link="right_wrist_yaw_link" />
    <axis xyz="0 0 1" />
    <limit lower="-2.3" upper="2.3" effort="17" velocity="87" />
  </joint>

  <link name="right_wrist_pitch_link">
    <inertial>
      <origin xyz="1.1625992e-03 2.8270210e-04 -5.7702211e-02" rpy="0 0 0"/>
      <mass value="7.3227634e-01"/>
      <inertia
        ixx="9.4034721e-04" 
        ixy="2.4089482e-07" 
        ixz="7.9368648e-06" 
        iyy="7.0409858e-04" 
        iyz="-9.9796755e-06" 
        izz="5.4229047e-04"/>
    </inertial>
    <visual>
      <origin xyz="0 0 0" rpy="0 0 0" />
      <geometry>
        <mesh filename="../meshes/right_wrist_pitch_link.STL" />
      </geometry>
      <material name="a">
        <color rgba="0.752941176470588 0.752941176470588 0.752941176470588 1" />
      </material>
    </visual>
    <!-- <collision>
      <origin xyz="0 0 0" rpy="0 0 0" />
      <geometry>
        <mesh filename="../meshes/right_wrist_pitch_link.STL" />
      </geometry>
    </collision> -->
    <collision>
      <origin xyz="0 0 0.0" rpy="1.57 0 0" />
      <geometry>
        <cylinder radius="0.032" length="0.064" />
      </geometry>
    </collision>
  </link>

  <joint name="right_wrist_pitch_joint" type="revolute">
    <origin xyz="0 0 -0.0645" rpy="0 0 0" />
    <parent link="right_wrist_yaw_link" />
    <child link="right_wrist_pitch_link" />
    <axis xyz="0 1 0" />
    <limit lower="-1.2" upper="1.2" effort="17" velocity="87" />
  </joint>

  <link name="right_wrist_roll_link">
    <inertial>
      <origin xyz="0.01916043 -0.00000117 -0.02394803" rpy="0 0 0" />
      <mass value="0.0380932" />
      <inertia
        ixx="0.00001604"
        ixy="0.00000000"
        ixz="0.00000518"
        iyy="0.00002008"
        iyz="0.00000000"
        izz="0.00000997" />
    </inertial>
    <visual>
      <origin xyz="0 0 0" rpy="0 0 0" />
      <geometry>
        <mesh filename="../meshes/right_wrist_roll_link.STL" />
      </geometry>
      <material name="a">
        <color rgba="0.752941176470588 0.752941176470588 0.752941176470588 1" />
      </material>


    </visual>

    <visual>
      <origin xyz="0 0 0" rpy="0 1.5708 0"/>  <!-- 绕Y轴旋转90°，让拳头朝前 -->
      <geometry>
        <mesh filename="../meshes/right_hand_link.STL" scale="1 1 1"/>
      </geometry>
      <material name="hand_material_right">
        <color rgba="0.752941176470588 0.752941176470588 0.752941176470588 1"/>
      </material>
    </visual>
    <collision>
      <origin xyz="0 0 0" rpy="0 1.5708 0"/>
      <geometry>
        <mesh filename="../meshes/right_hand_link.STL" scale="1 1 1"/>
      </geometry>
    </collision>

    <!-- <collision>
      <origin xyz="0 0 0" rpy="0 0 0" />
      <geometry>
        <mesh filename="../meshes/right_wrist_roll_link.STL" />
      </geometry>
    </collision> -->
    <collision>
      <origin xyz="0 0 0" rpy="0 1.57 0" />
      <geometry>
        <cylinder radius="0.035" length="0.054" />
      </geometry>
    </collision>

  </link>

  <joint name="right_wrist_roll_joint" type="revolute">
    <origin xyz="0 0 -0.068" rpy="0 0 0" />
    <parent link="right_wrist_pitch_link" />
    <child link="right_wrist_roll_link" />
    <axis xyz="1 0 0" />
    <limit lower="-1.2" upper="1.2" effort="17" velocity="87" />
  </joint>
</robot>
